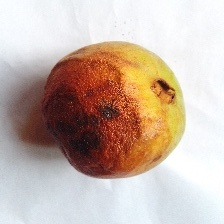guava: (30, 36, 194, 178)
